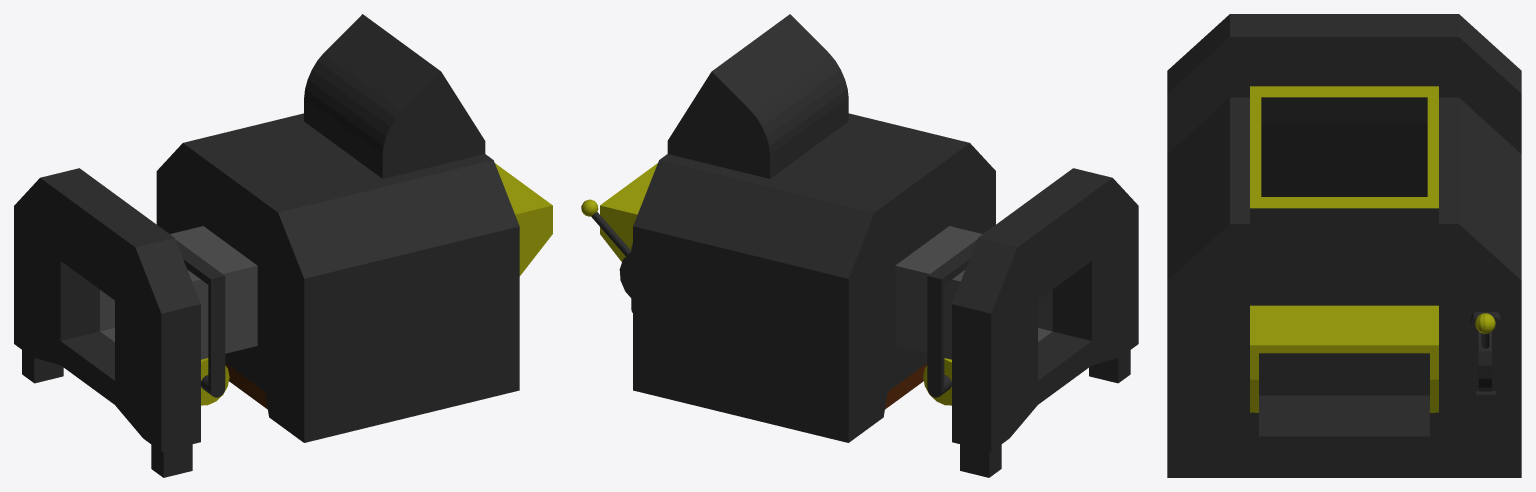
Rendered from packagingMachine.0002.fbx.
The picture shows the model from 3 angles, left to right: view 1: azimuth 30°, elevation 25°; view 2: azimuth 150°, elevation 25°; view 3: azimuth 270°, elevation 25°; orthographic projection. The views are drawn at different scales.
Parts seen in each view (by area): view 1: machinemain, pallet; view 2: machinemain, lever, pallet; view 3: machinemain, lever.
Part boxes in pixels (x1,y1,x2,y2): machinemain: (14,14,552,477); pallet: (225,363,267,409); machinemain: (600,14,1138,477); lever: (581,199,631,297); pallet: (885,363,927,409); machinemain: (1167,14,1521,477); lever: (1475,313,1495,391).
Bounding box in the file's own units: 773 × 534 × 463.
